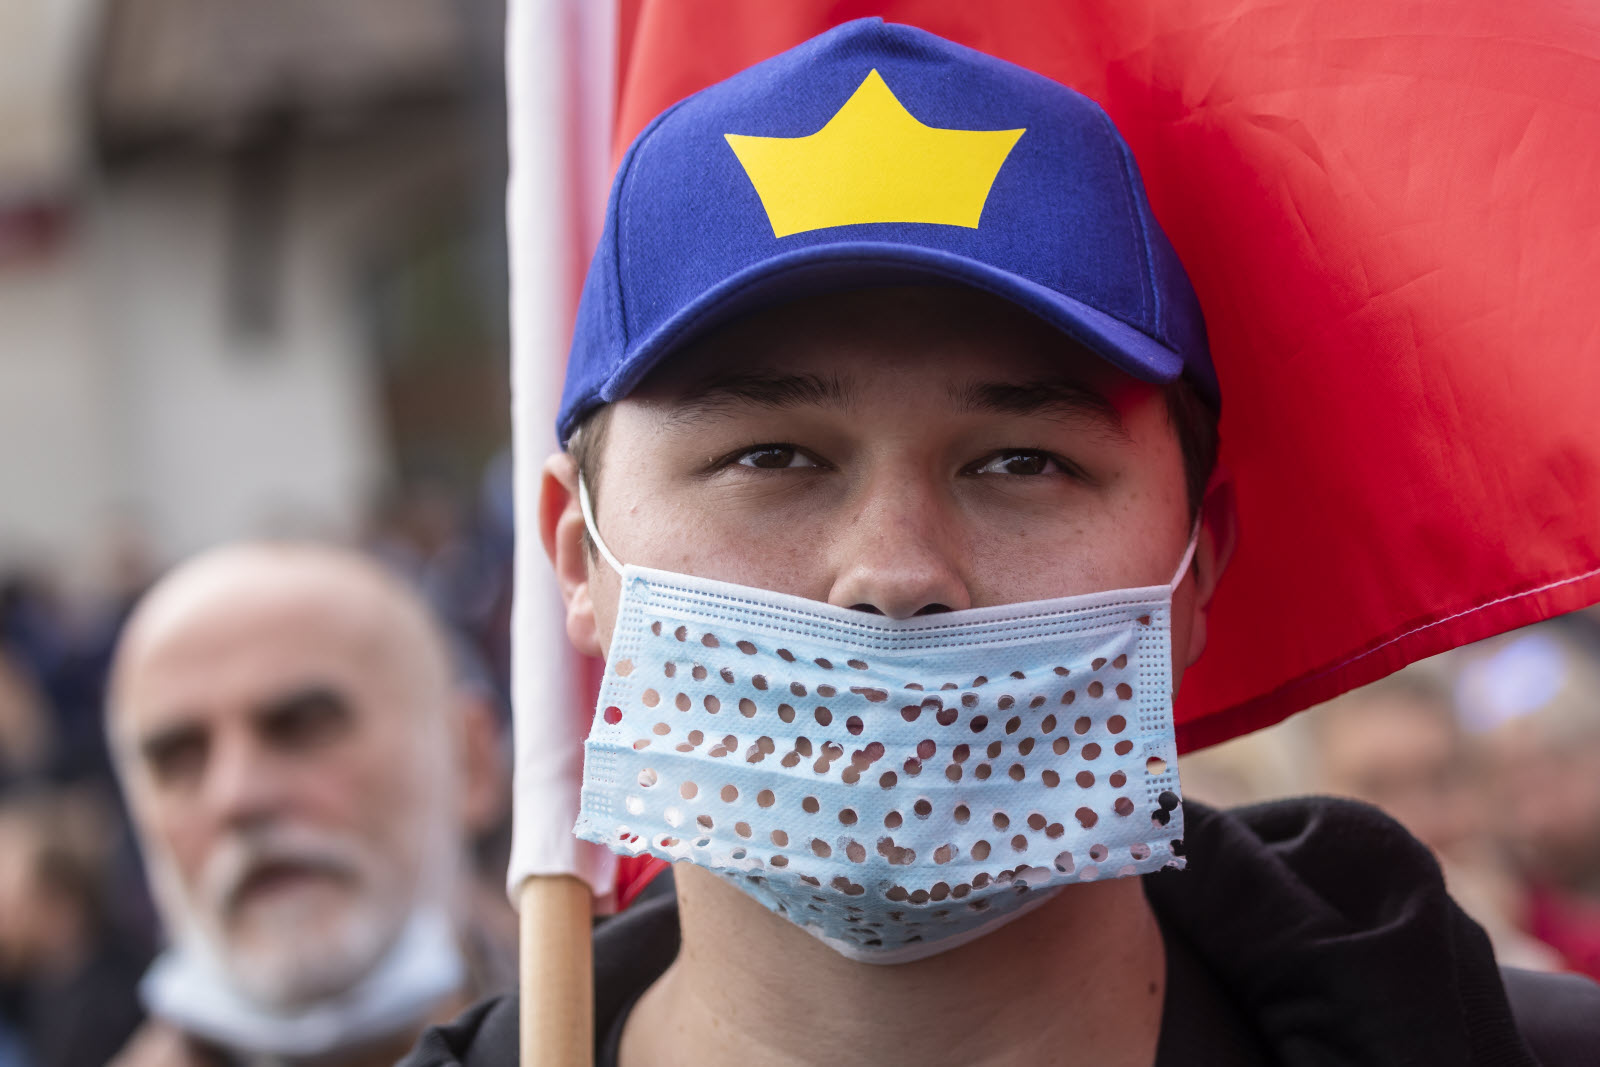with_incorrect_mask: (595, 304, 1167, 867)
